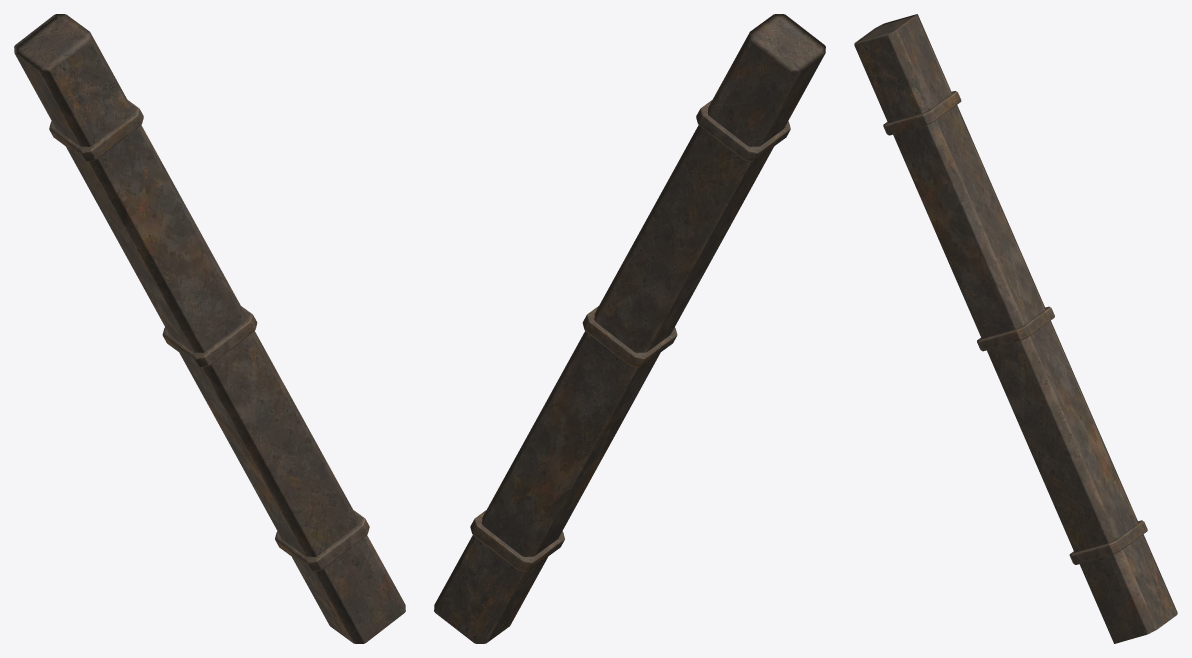
The picture shows the model from 3 angles, left to right: view 1: azimuth 30°, elevation 25°; view 2: azimuth 150°, elevation 25°; view 3: azimuth 330°, elevation 25°; orthographic projection. The views are drawn at different scales.
Parts seen in each view (by area): view 1: SM_BB_T3_Extended_Beam_Thin_Large_Steep_LOD0; view 2: SM_BB_T3_Extended_Beam_Thin_Large_Steep_LOD0; view 3: SM_BB_T3_Extended_Beam_Thin_Large_Steep_LOD0.
Part boxes in pixels (bbox=[...]): SM_BB_T3_Extended_Beam_Thin_Large_Steep_LOD0: bbox=[14, 14, 405, 643]; SM_BB_T3_Extended_Beam_Thin_Large_Steep_LOD0: bbox=[434, 14, 825, 643]; SM_BB_T3_Extended_Beam_Thin_Large_Steep_LOD0: bbox=[854, 14, 1177, 643].
Bounding box in the file's own units: 1.76 × 3.11 × 0.3371.
1 material, 1 textured.
